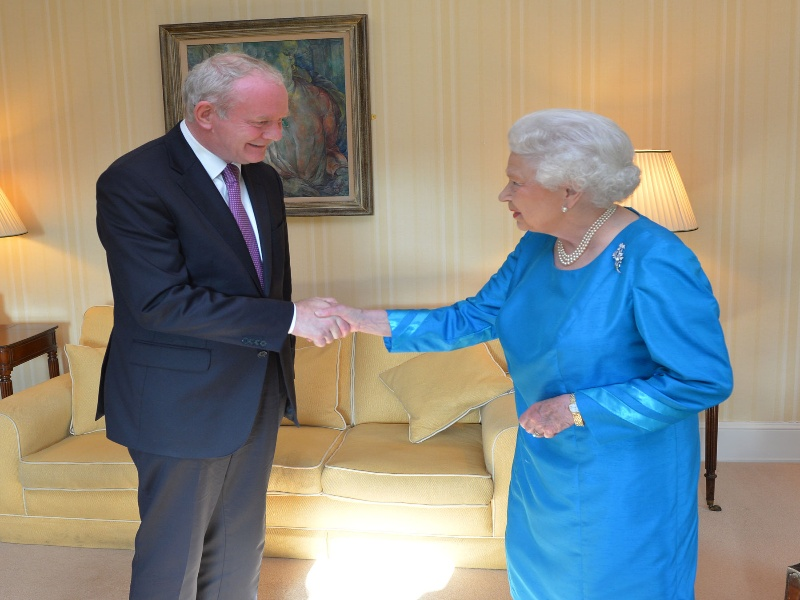face: (196, 75, 291, 166), (495, 148, 592, 237)
